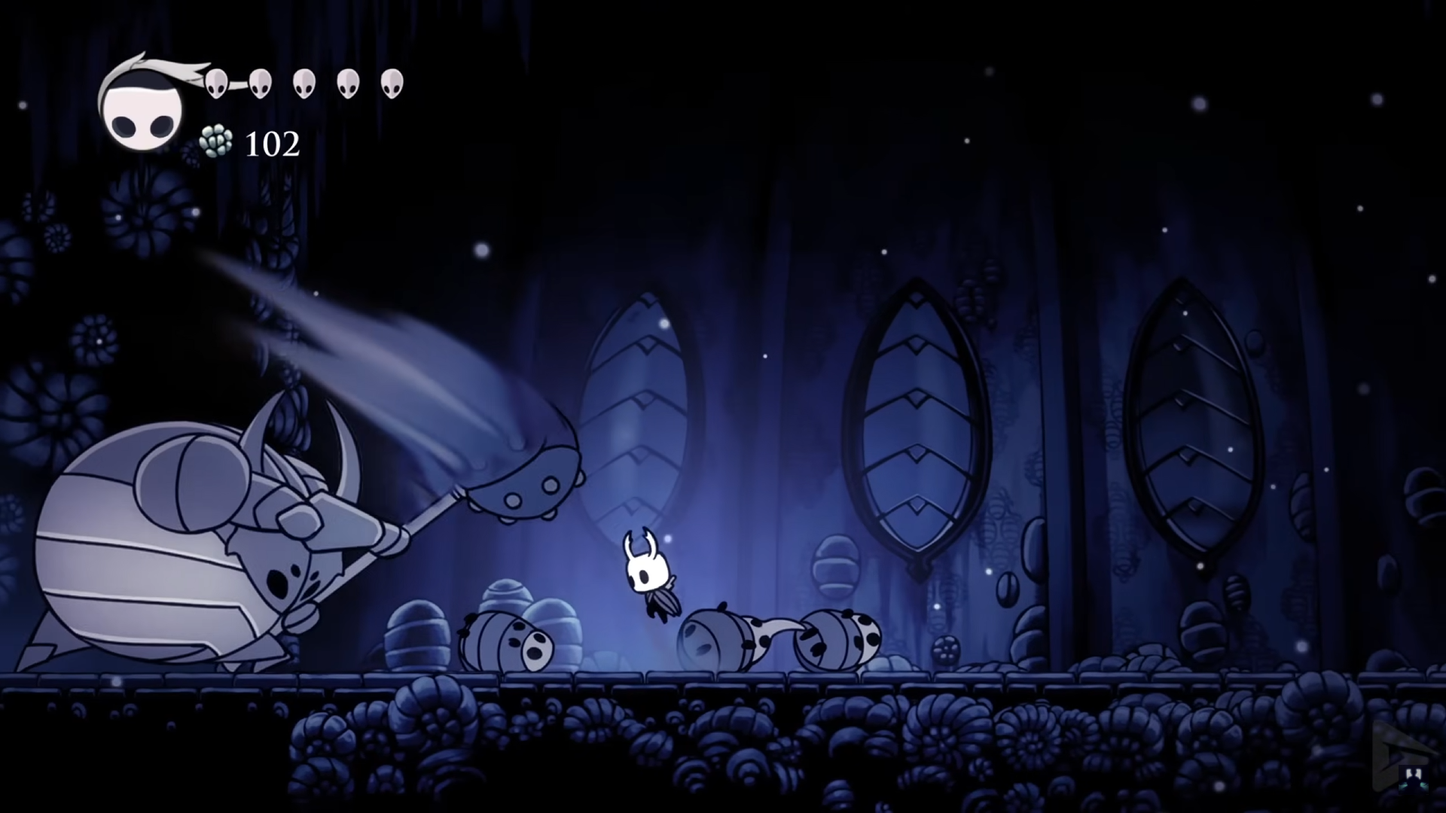HK: (620, 525, 682, 630)
